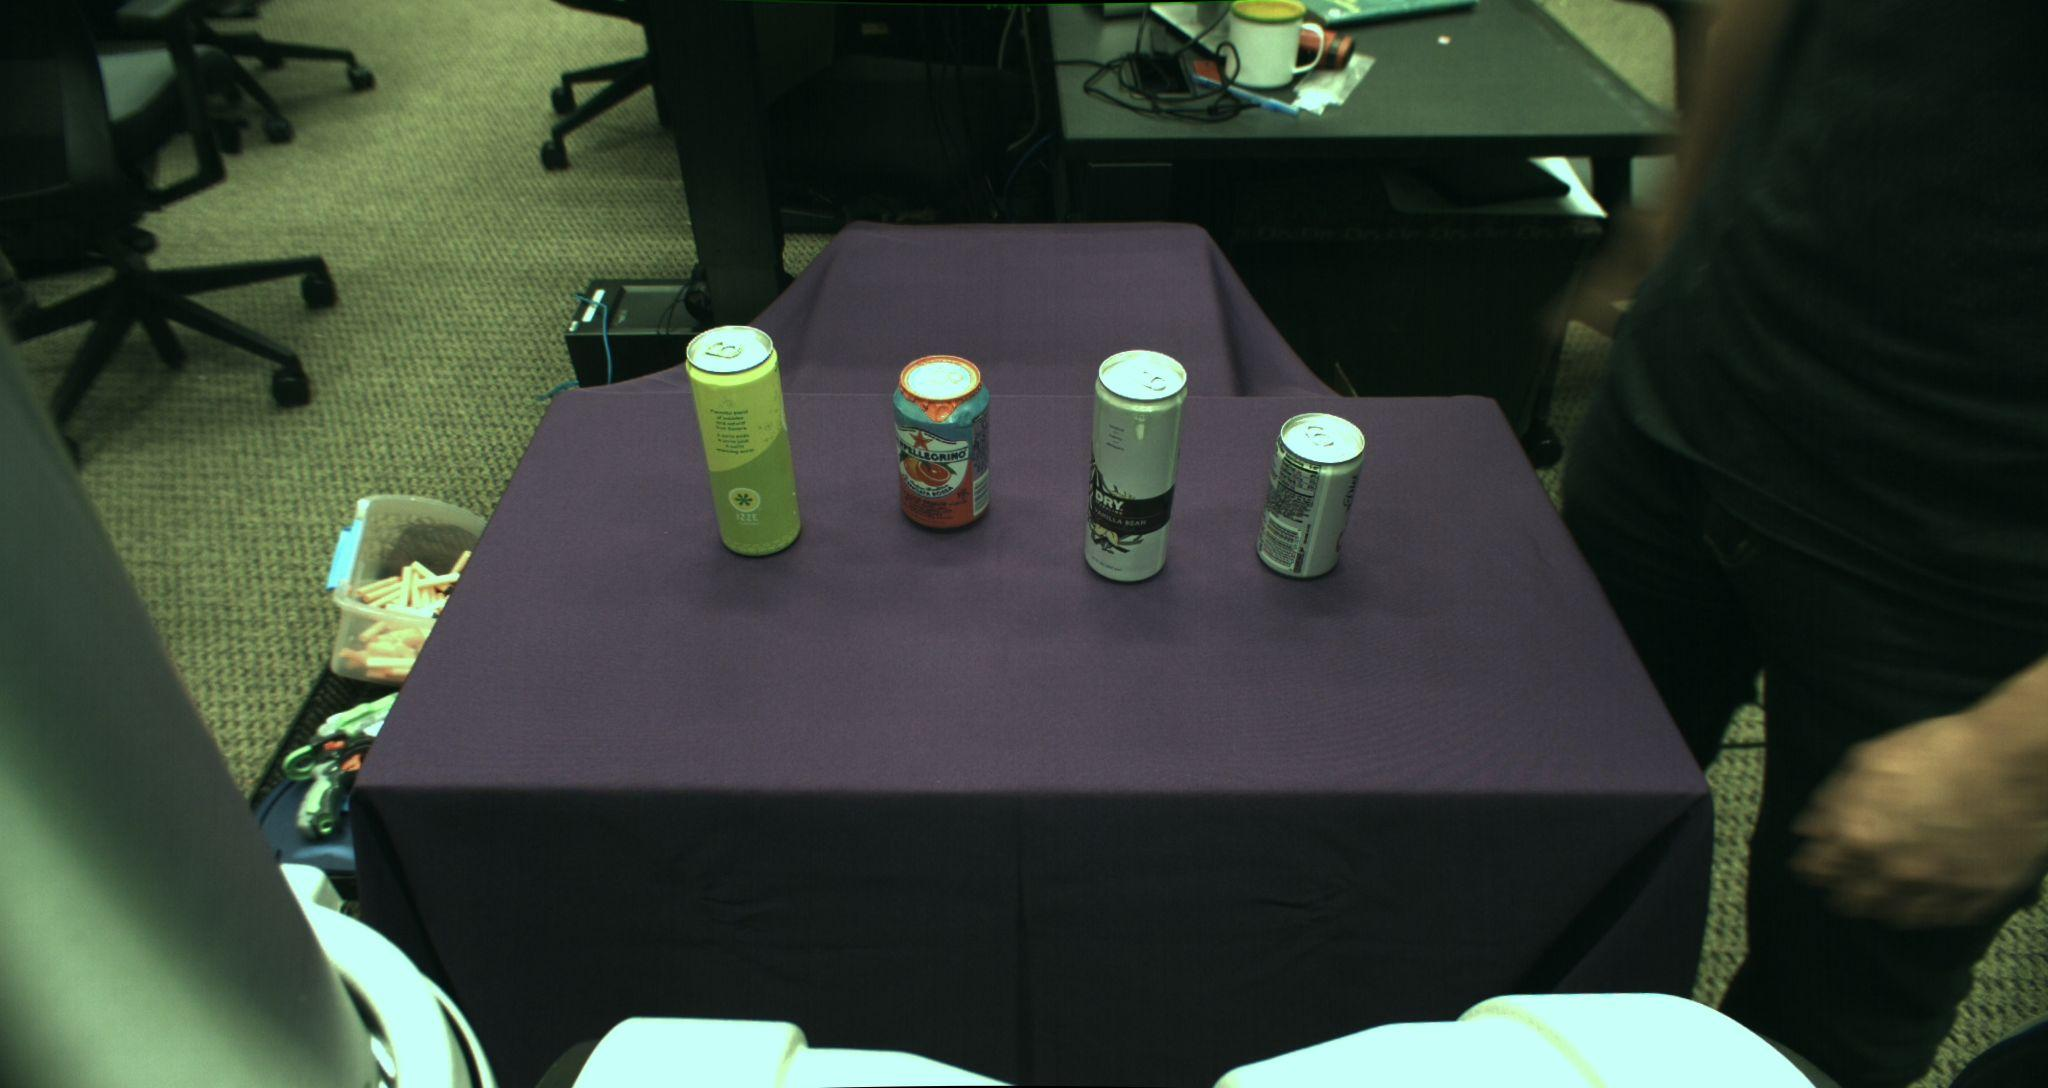can_diet_coke_small: (1254, 411, 1365, 580)
can_dry_sparkling_vanilla_bean: (1085, 348, 1187, 581)
can_izze_fusions_lemon_lime: (685, 325, 801, 556)
can_sanpellegrino_blood_orange: (893, 354, 993, 528)
